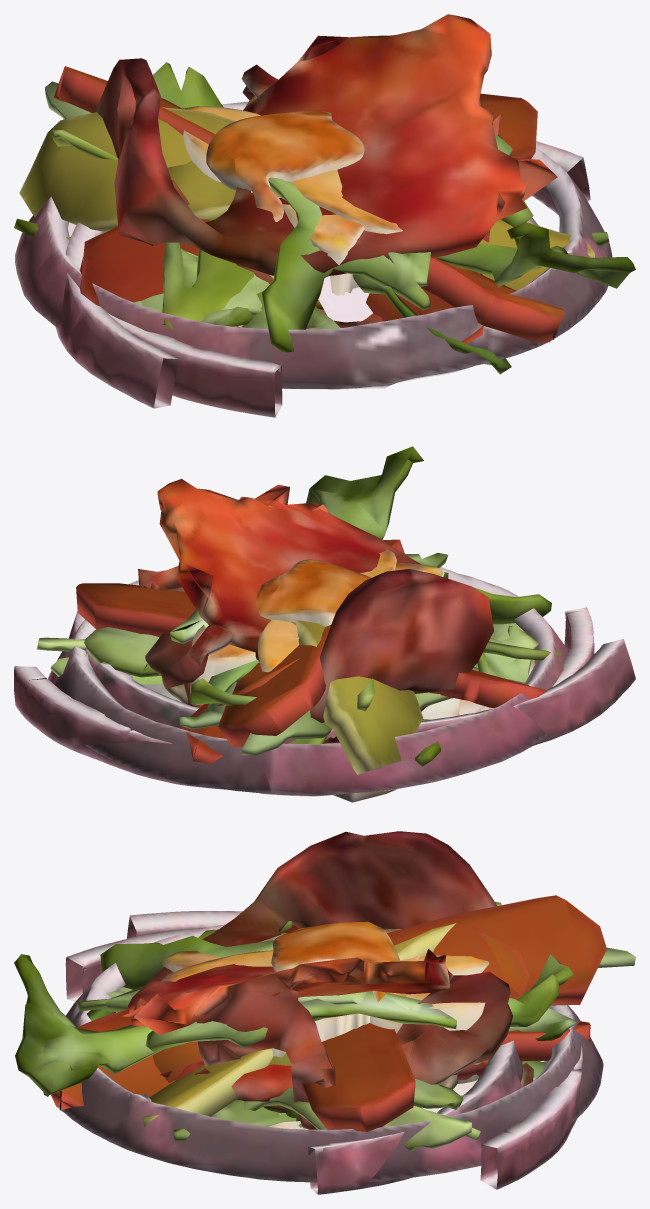
Rendered from toppings.glb.
The picture shows the model from 3 angles, top to bottom: view 1: azimuth 30°, elevation 25°; view 2: azimuth 150°, elevation 25°; view 3: azimuth 270°, elevation 25°; orthographic projection. The views are drawn at different scales.
Visible parts, largest first — view 1: cherry-tomato-1, red-onion-2, arugula-3, bell-pepper-4, chicken-2, red-onion-3, arugula-4, bell-pepper-2, bell-pepper-1, red-onion-4, arugula-5, chicken-4 (+8 smaller); view 2: cherry-tomato-1, red-onion-2, red-onion-3, red-onion-4, arugula-4, bell-pepper-1, bell-pepper-4, bell-pepper-2, chicken-2, arugula-3, arugula-5, arugula-1 (+5 smaller); view 3: cherry-tomato-1, red-onion-2, bell-pepper-2, arugula-3, arugula-4, bell-pepper-1, red-onion-3, red-onion-4, chicken-2, bell-pepper-4, bell-pepper-0, cherry-tomato-0 (+7 smaller).
Part boxes in pixels (left/top/right/bottom): cherry-tomato-1: left=95, top=14, right=557, bottom=275; red-onion-2: left=15, top=101, right=612, bottom=389; arugula-3: left=153, top=62, right=533, bottom=352; bell-pepper-4: left=19, top=107, right=594, bottom=290; chicken-2: left=206, top=110, right=364, bottom=221; red-onion-3: left=55, top=141, right=590, bottom=408; arugula-4: left=45, top=81, right=635, bottom=374; bell-pepper-2: left=53, top=66, right=564, bottom=342; bell-pepper-1: left=79, top=93, right=537, bottom=305; red-onion-4: left=68, top=222, right=282, bottom=417; arugula-5: left=162, top=217, right=253, bottom=329; chicken-4: left=182, top=106, right=402, bottom=234; cherry-tomato-1: left=138, top=479, right=493, bottom=722; red-onion-2: left=48, top=567, right=568, bottom=796; red-onion-3: left=68, top=611, right=635, bottom=746; red-onion-4: left=14, top=607, right=594, bottom=789; arugula-4: left=178, top=446, right=448, bottom=755; bell-pepper-1: left=76, top=583, right=546, bottom=707; bell-pepper-4: left=295, top=620, right=423, bottom=774; bell-pepper-2: left=218, top=539, right=404, bottom=747; chicken-2: left=256, top=559, right=371, bottom=626; arugula-3: left=169, top=553, right=551, bottom=705; arugula-5: left=84, top=627, right=561, bottom=677; arugula-1: left=37, top=625, right=538, bottom=684; cherry-tomato-1: left=122, top=831, right=512, bottom=1129; red-onion-2: left=51, top=924, right=603, bottom=1182; bell-pepper-2: left=51, top=895, right=606, bottom=1111; arugula-3: left=76, top=936, right=573, bottom=1052; arugula-4: left=14, top=902, right=635, bottom=1096; bell-pepper-1: left=280, top=925, right=415, bottom=1131; red-onion-3: left=127, top=911, right=522, bottom=1194; red-onion-4: left=65, top=927, right=582, bottom=1189; chicken-2: left=259, top=921, right=406, bottom=1033; bell-pepper-4: left=142, top=923, right=456, bottom=1127; bell-pepper-0: left=153, top=931, right=529, bottom=1082; cherry-tomato-0: left=160, top=927, right=488, bottom=1101.
Size of the model in its own units: 0.1482 by 0.053 by 0.1571.
Materials: 8 (8 with a texture image).
